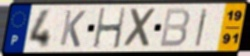4: (26, 8, 54, 50)
B: (158, 7, 192, 49)
H: (92, 7, 128, 50)
I: (193, 8, 210, 48)
K: (58, 9, 88, 49)
X: (123, 6, 159, 49)
